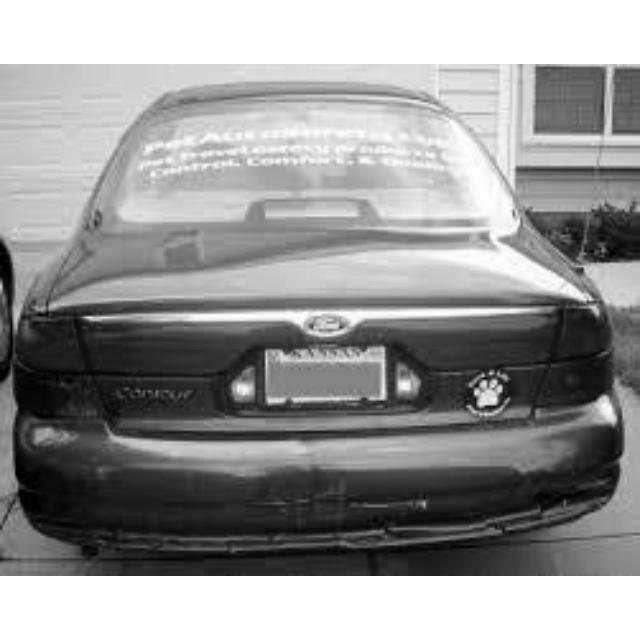rear-bumper-dent: (54, 457, 607, 538)
